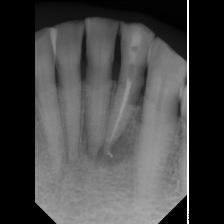apical_lesion: (93, 23, 157, 196)
